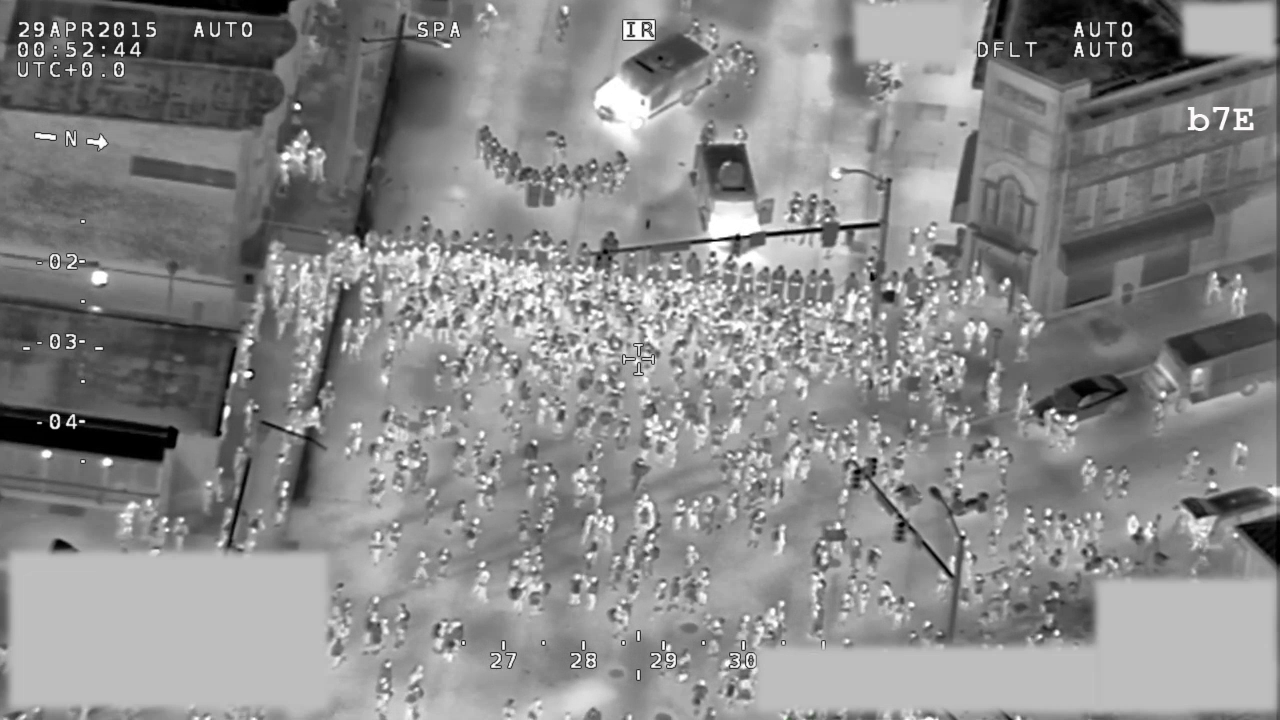vehicle: (1136, 310, 1280, 420), (587, 28, 718, 133), (680, 137, 768, 259), (1022, 370, 1133, 436), (1176, 479, 1280, 548)
